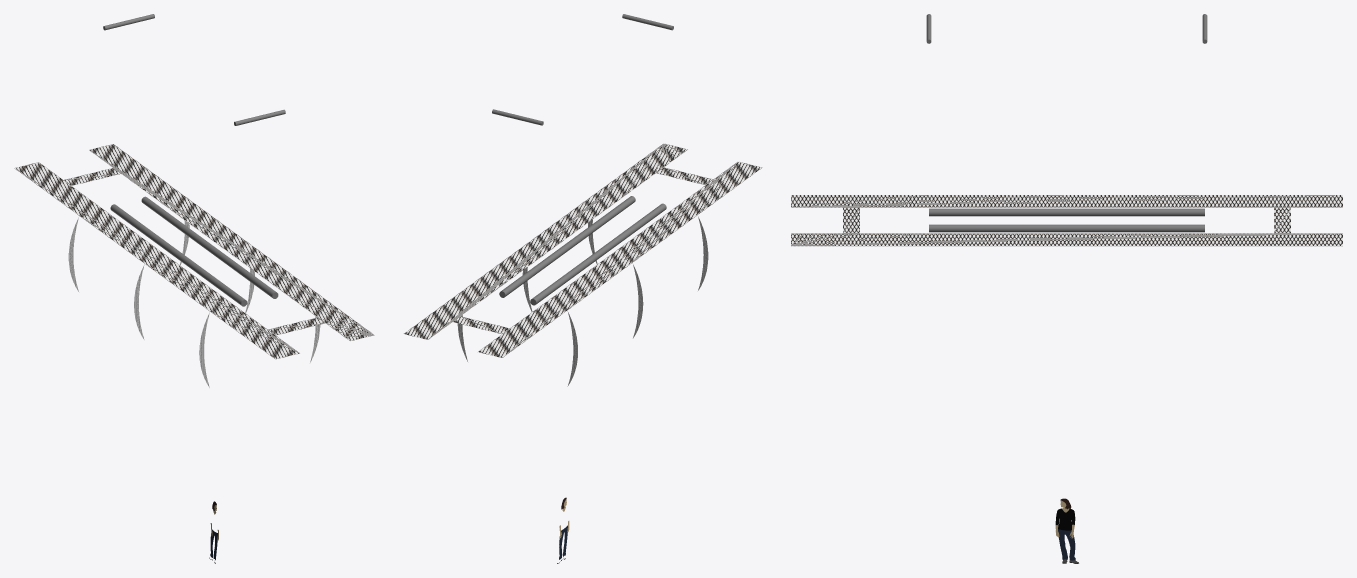
Rendered from testwire5.glb.
The picture shows the model from 3 angles, left to right: view 1: azimuth 30°, elevation 25°; view 2: azimuth 150°, elevation 25°; view 3: azimuth 270°, elevation 25°; orthographic projection. The views are drawn at different scales.
Visible parts, largest first — view 1: Cirque du Soleil's "O" Bateau (unfinished); view 2: Cirque du Soleil's "O" Bateau (unfinished); view 3: Cirque du Soleil's "O" Bateau (unfinished), Susan.
Part boxes in pixels (x1,y1,x2,y2): Cirque du Soleil's "O" Bateau (unfinished): [14, 14, 374, 387]; Cirque du Soleil's "O" Bateau (unfinished): [403, 14, 762, 386]; Cirque du Soleil's "O" Bateau (unfinished): [791, 14, 1342, 246]; Susan: [1055, 498, 1078, 563].
Bounding box in the file's own units: 3.47 × 13.67 × 12.98.
11 materials, 2 textured.
